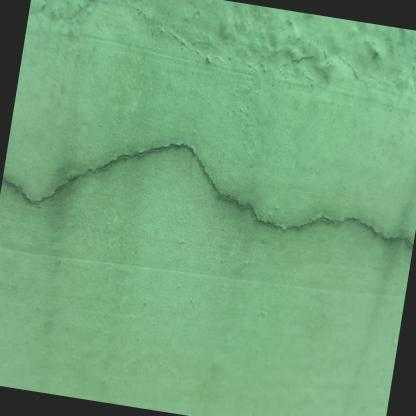crack: (2, 142, 413, 249)
